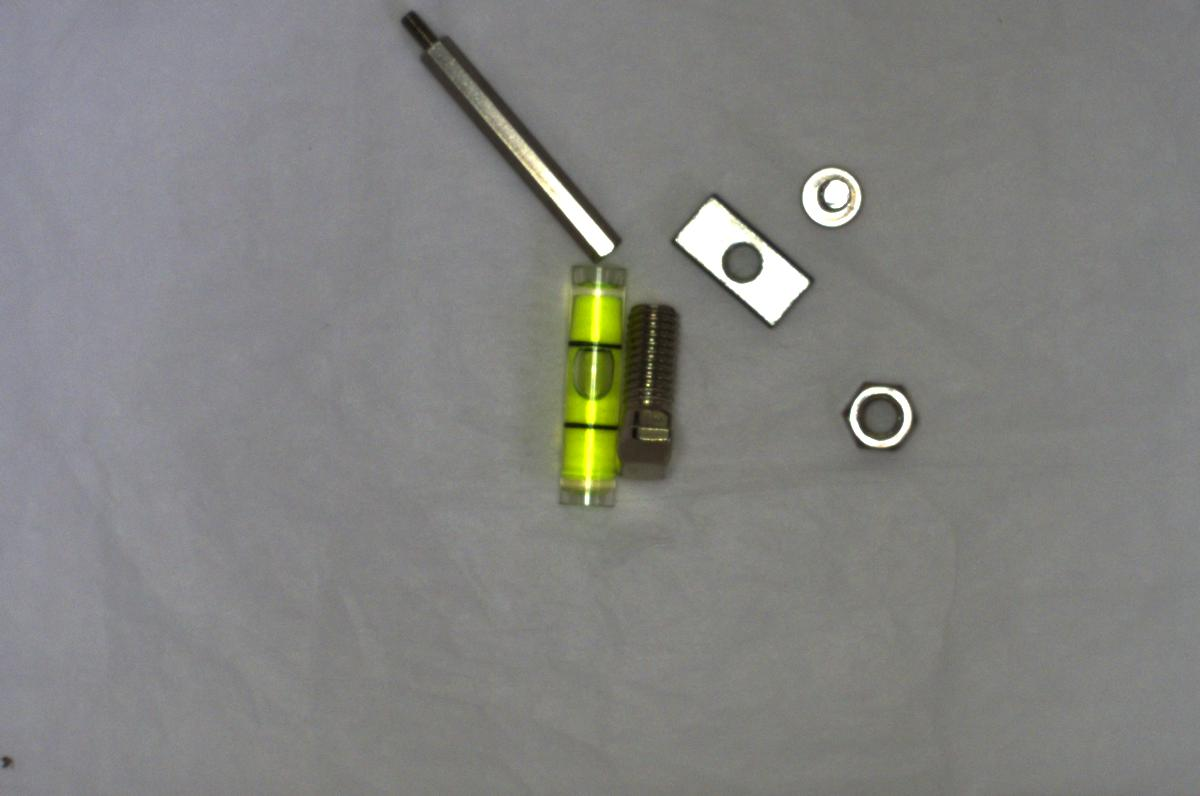Hexagon nut: (819, 374, 927, 450)
Hexagonal steel column: (400, 13, 621, 260)
Horizontal bubble: (550, 256, 630, 518)
Rectangular nut: (662, 190, 824, 332)
Round head screw: (801, 159, 865, 228)
T-shaped screw: (605, 290, 690, 483)
